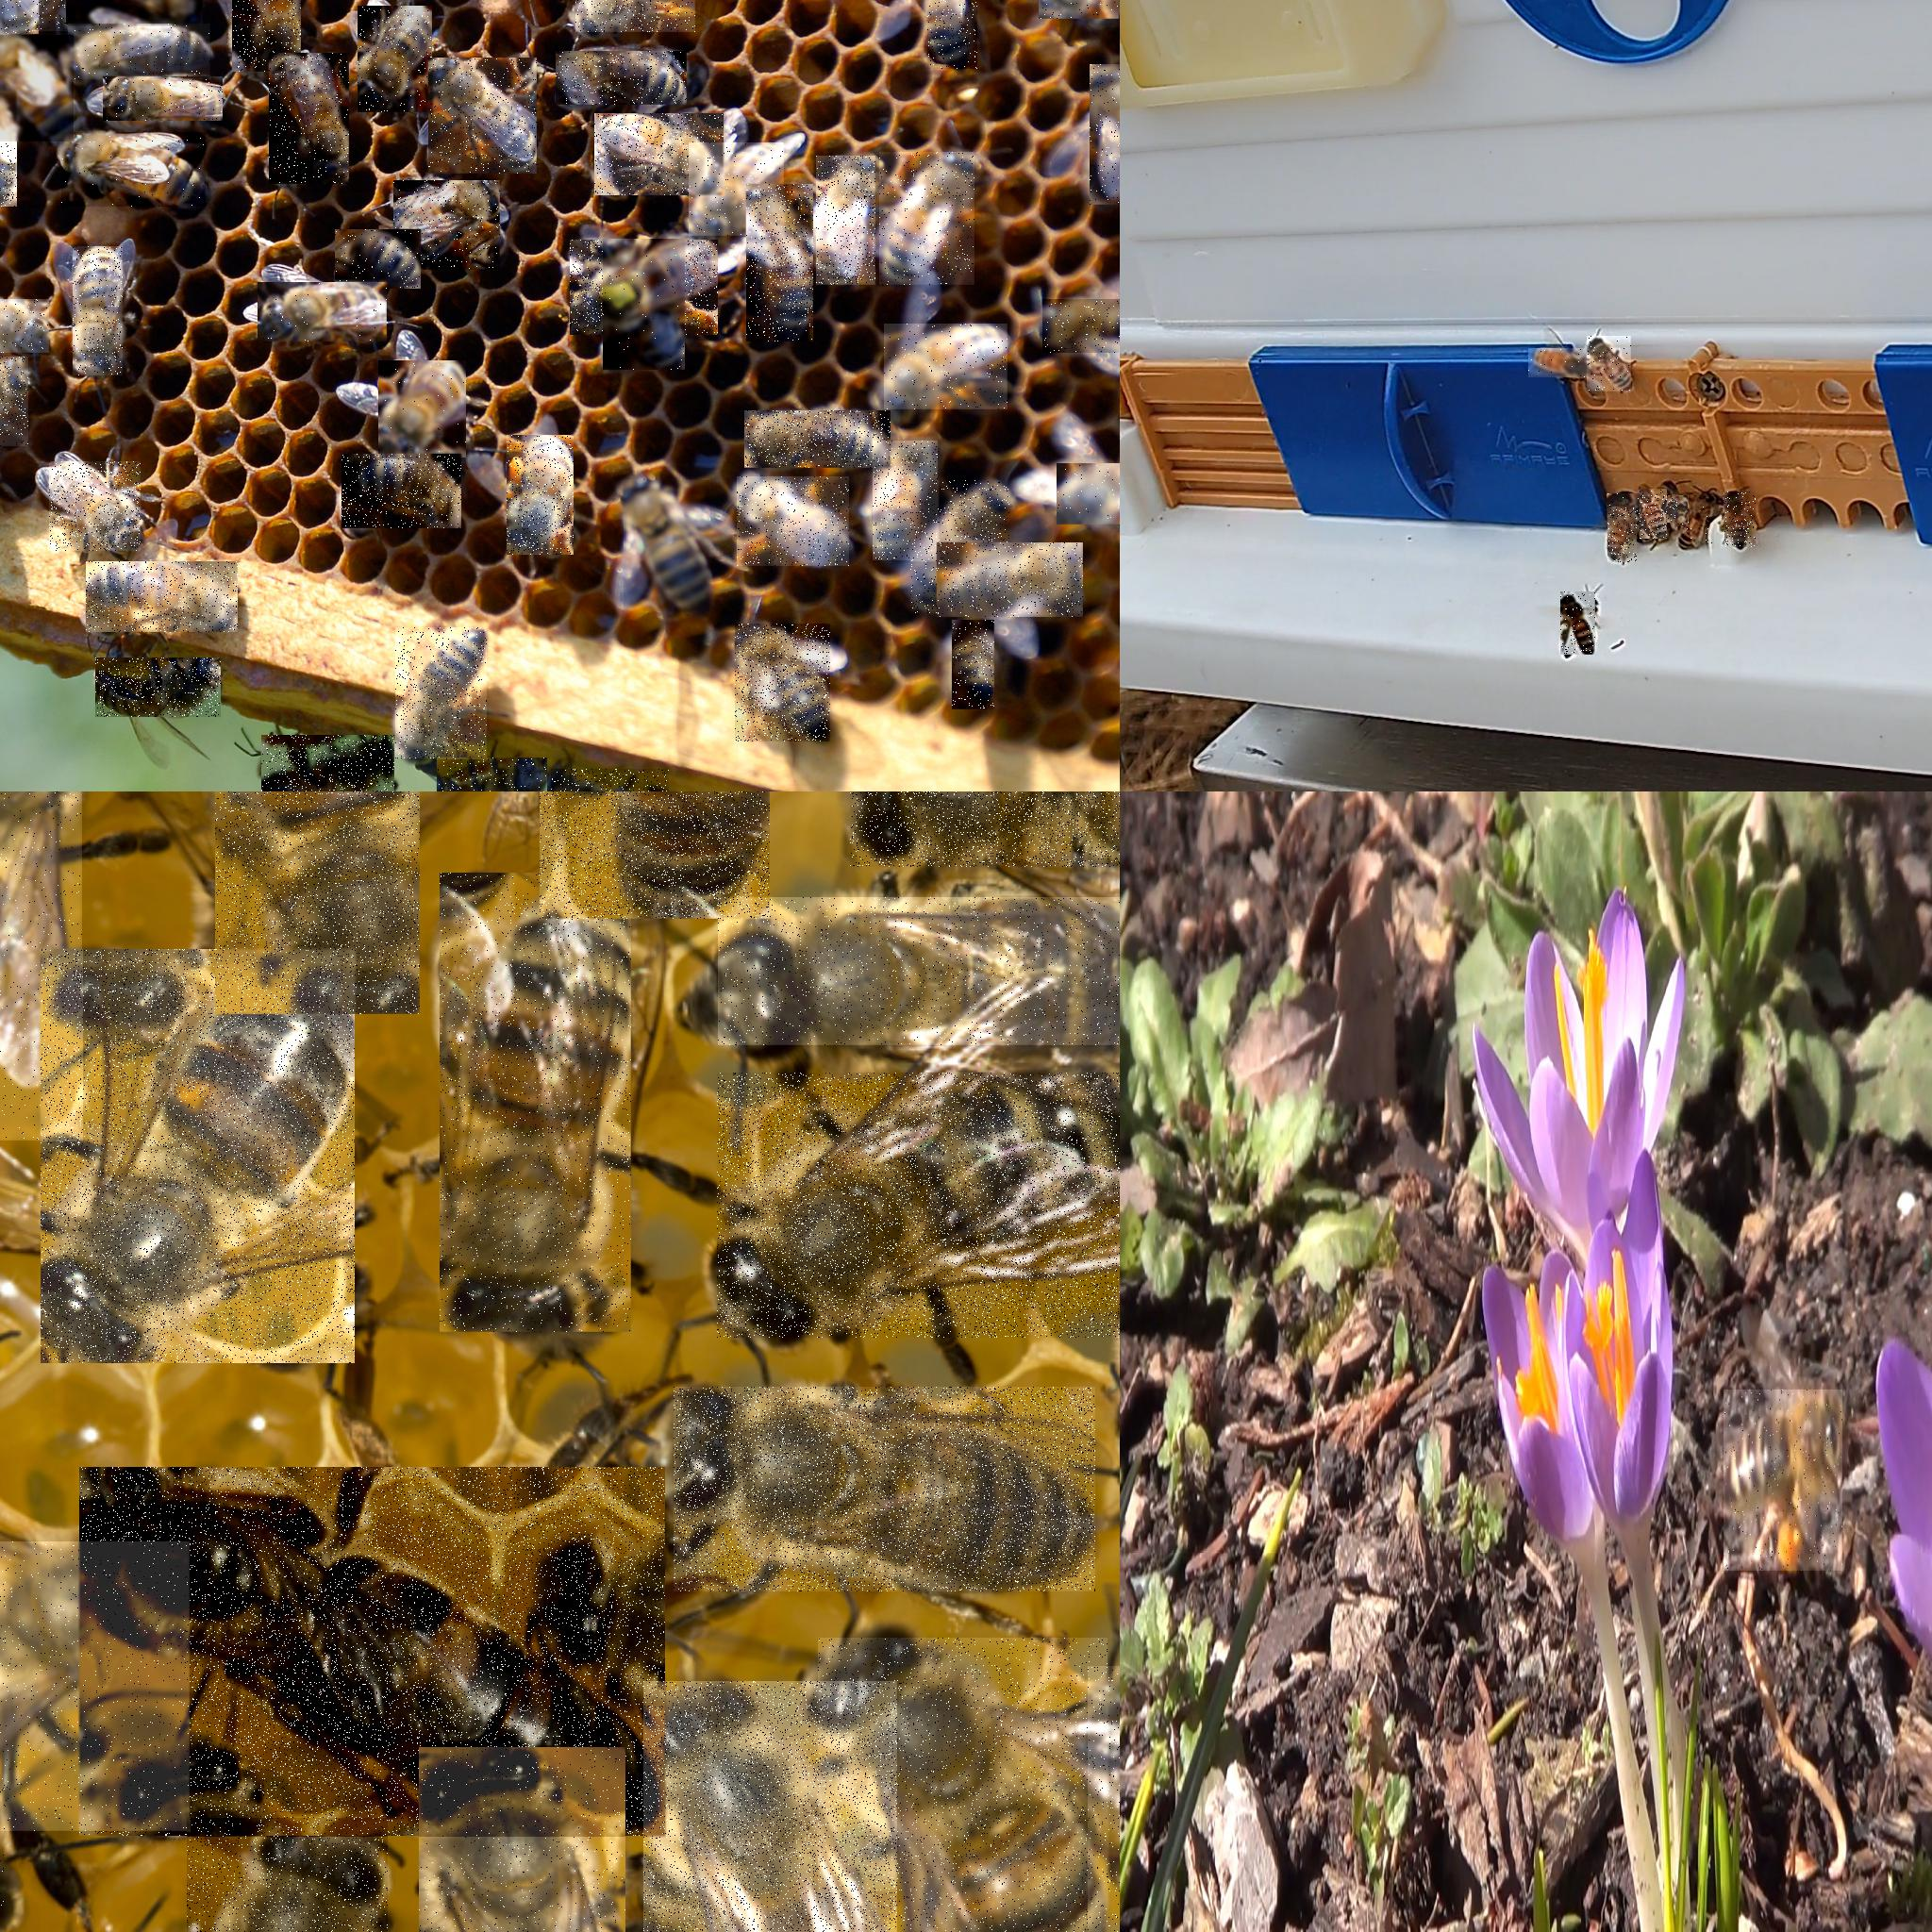bee: (41, 948, 356, 1364), (717, 1072, 1118, 1339), (439, 872, 632, 1332), (674, 1387, 1097, 1592), (817, 1638, 1109, 1930), (644, 1681, 899, 1930), (718, 897, 1118, 1047), (0, 1541, 191, 1833), (214, 791, 421, 1016), (419, 1746, 628, 1930), (540, 791, 771, 920), (0, 791, 83, 1143), (188, 1817, 389, 1930), (849, 791, 1118, 869), (911, 479, 1010, 614), (879, 152, 975, 287), (428, 58, 538, 175), (395, 628, 488, 759), (623, 479, 711, 612), (734, 623, 832, 743), (936, 543, 1085, 617), (87, 561, 239, 633), (603, 239, 686, 372), (594, 113, 725, 196), (269, 53, 350, 186), (62, 133, 207, 207), (885, 324, 1008, 410), (747, 184, 814, 343), (736, 476, 849, 566), (393, 180, 501, 271), (341, 453, 462, 529), (688, 143, 786, 237), (379, 361, 467, 458), (745, 410, 892, 469), (50, 462, 142, 552), (357, 5, 433, 113), (0, 35, 76, 143), (67, 23, 211, 80), (872, 441, 939, 561), (258, 281, 387, 343), (816, 156, 876, 287), (96, 658, 221, 718), (262, 734, 395, 791), (556, 51, 688, 106), (73, 246, 124, 377), (103, 76, 223, 122), (232, 0, 303, 74), (334, 230, 421, 290), (1088, 64, 1118, 207), (1042, 299, 1118, 354), (575, 0, 697, 34), (952, 619, 996, 709), (1056, 464, 1118, 527), (437, 757, 548, 791), (65, 0, 205, 27), (927, 0, 978, 71), (5, 0, 92, 34), (0, 297, 50, 354), (550, 768, 671, 791), (0, 357, 30, 448), (1587, 336, 1631, 393), (0, 90, 19, 209), (1677, 492, 1714, 550), (1529, 349, 1591, 379), (1606, 494, 1640, 522), (1667, 495, 1688, 524)
pollenbee: (1723, 1389, 1844, 1571), (506, 435, 575, 556), (1560, 591, 1596, 656), (1725, 492, 1757, 548), (1608, 506, 1638, 563), (1640, 488, 1668, 540)
queen: (80, 1467, 665, 1836), (570, 239, 718, 336)
